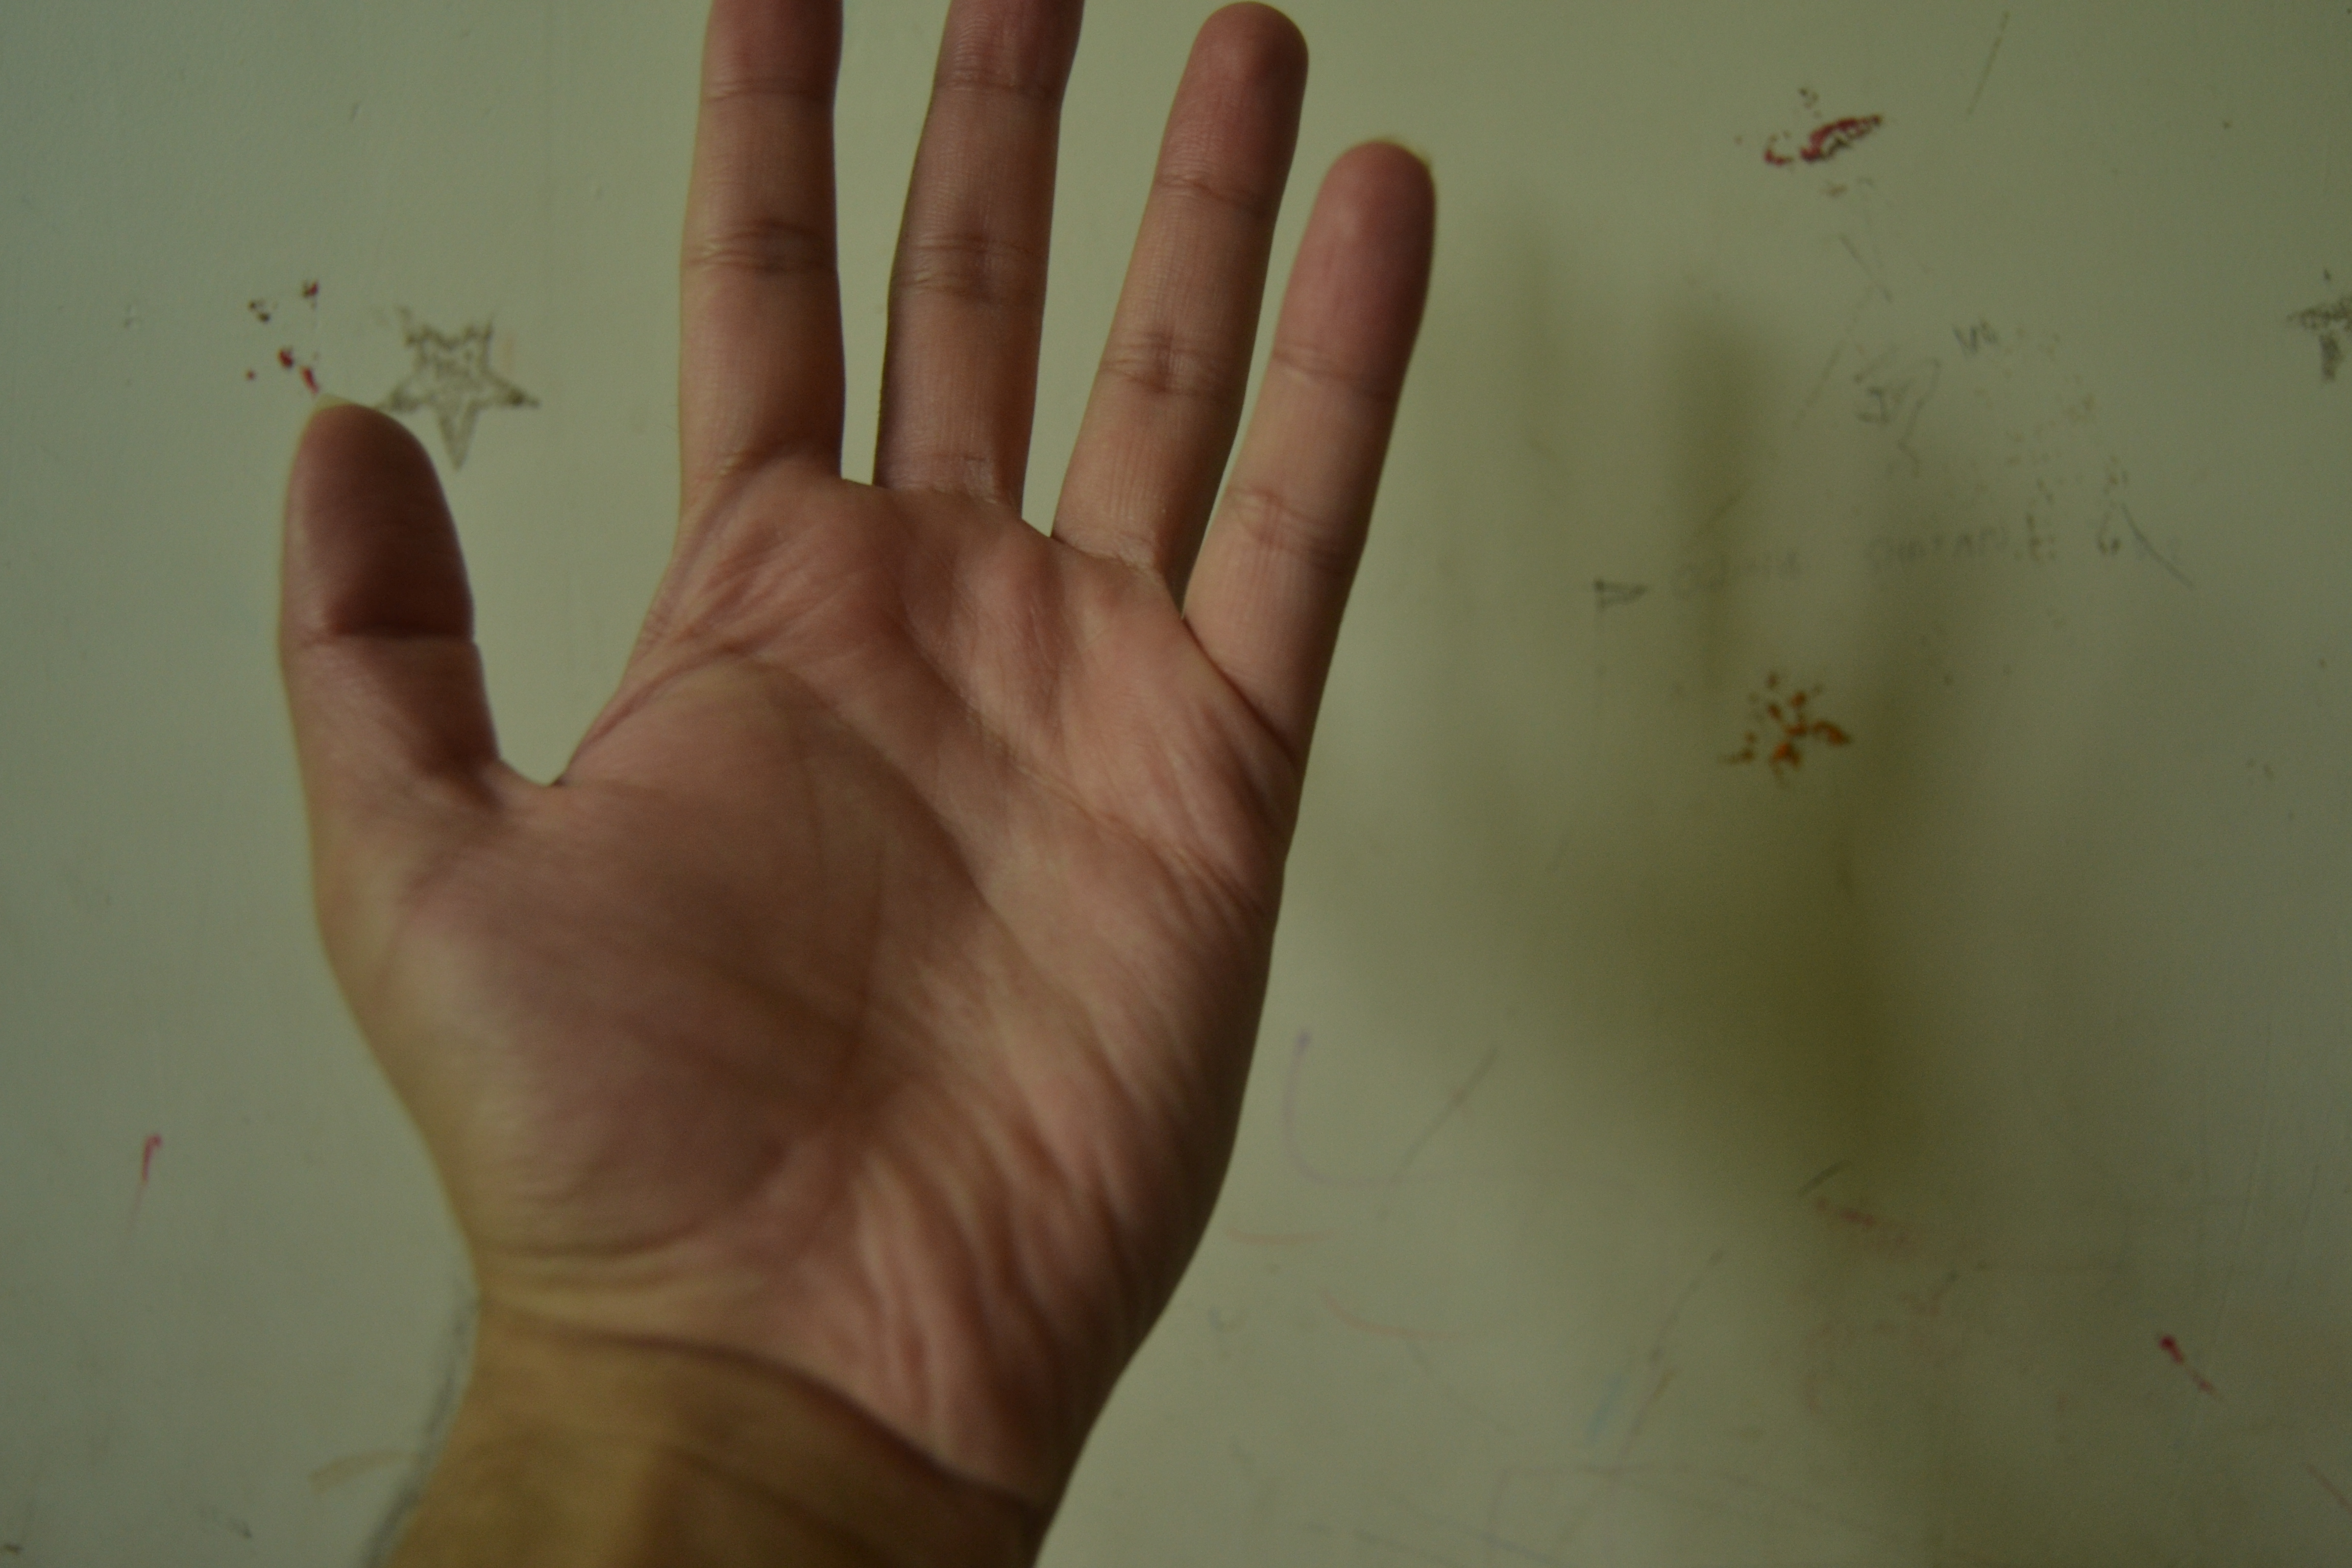move: (159, 0, 1484, 1396)
